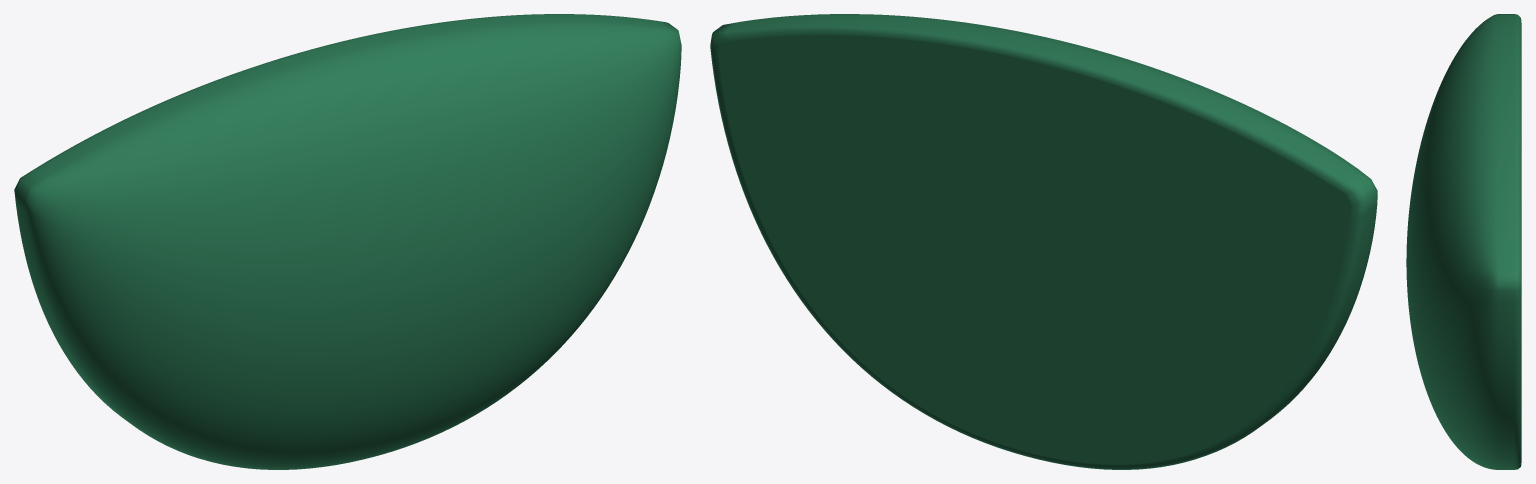
File: wide-shield.glb
3 renders of one model, left to right at view 1: azimuth 30°, elevation 25°; view 2: azimuth 150°, elevation 25°; view 3: azimuth 270°, elevation 25°, orthographic. The views are drawn at different scales.
Visible parts, largest first — view 1: Wide-Shield Cabochon 13x22x4mm; view 2: Wide-Shield Cabochon 13x22x4mm; view 3: Wide-Shield Cabochon 13x22x4mm.
Boxes of the visible parts, x1=… form: Wide-Shield Cabochon 13x22x4mm: x1=14, y1=14, x2=681, y2=469; Wide-Shield Cabochon 13x22x4mm: x1=710, y1=14, x2=1377, y2=469; Wide-Shield Cabochon 13x22x4mm: x1=1406, y1=14, x2=1521, y2=469.
Bounding box in the file's own units: 0.0219 × 0.013 × 0.00398.
